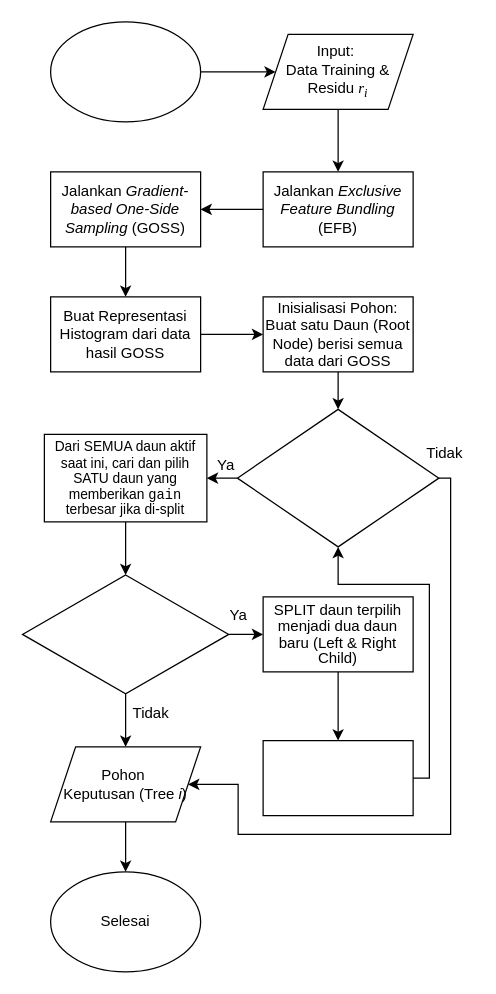
The diagram is 496 pixels wide and 994 high, and some of its shapes have lost their labels. The box of each missing label's shape, as (x1, y1, x2, y2) in pixels:
Apakah gain dari daun terpilih > min_split_gain ?: (21, 574, 229, 694)
Masih ada daun yang bisa di-split dan Jumlah Daun < max_leaves ?: (236, 408, 439, 547)
Mulai: (49, 21, 201, 122)
Perbarui struktur pohon: (262, 739, 413, 816)
